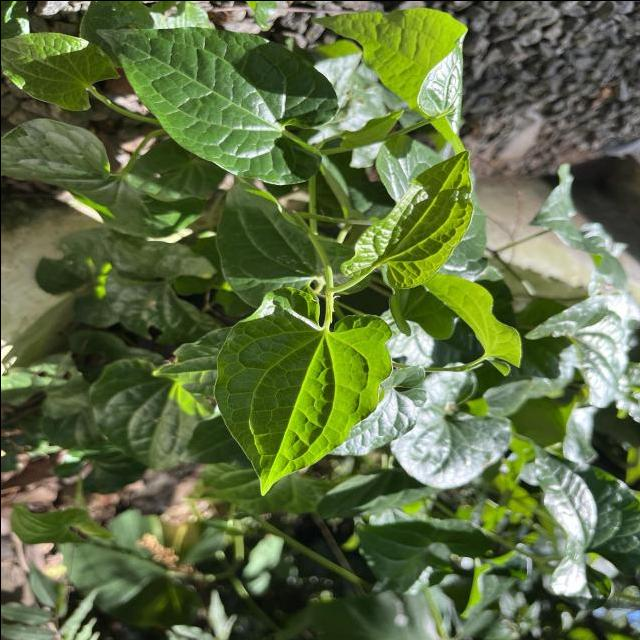Piper longum: (91, 22, 342, 186), (210, 284, 396, 497), (336, 147, 476, 291)
